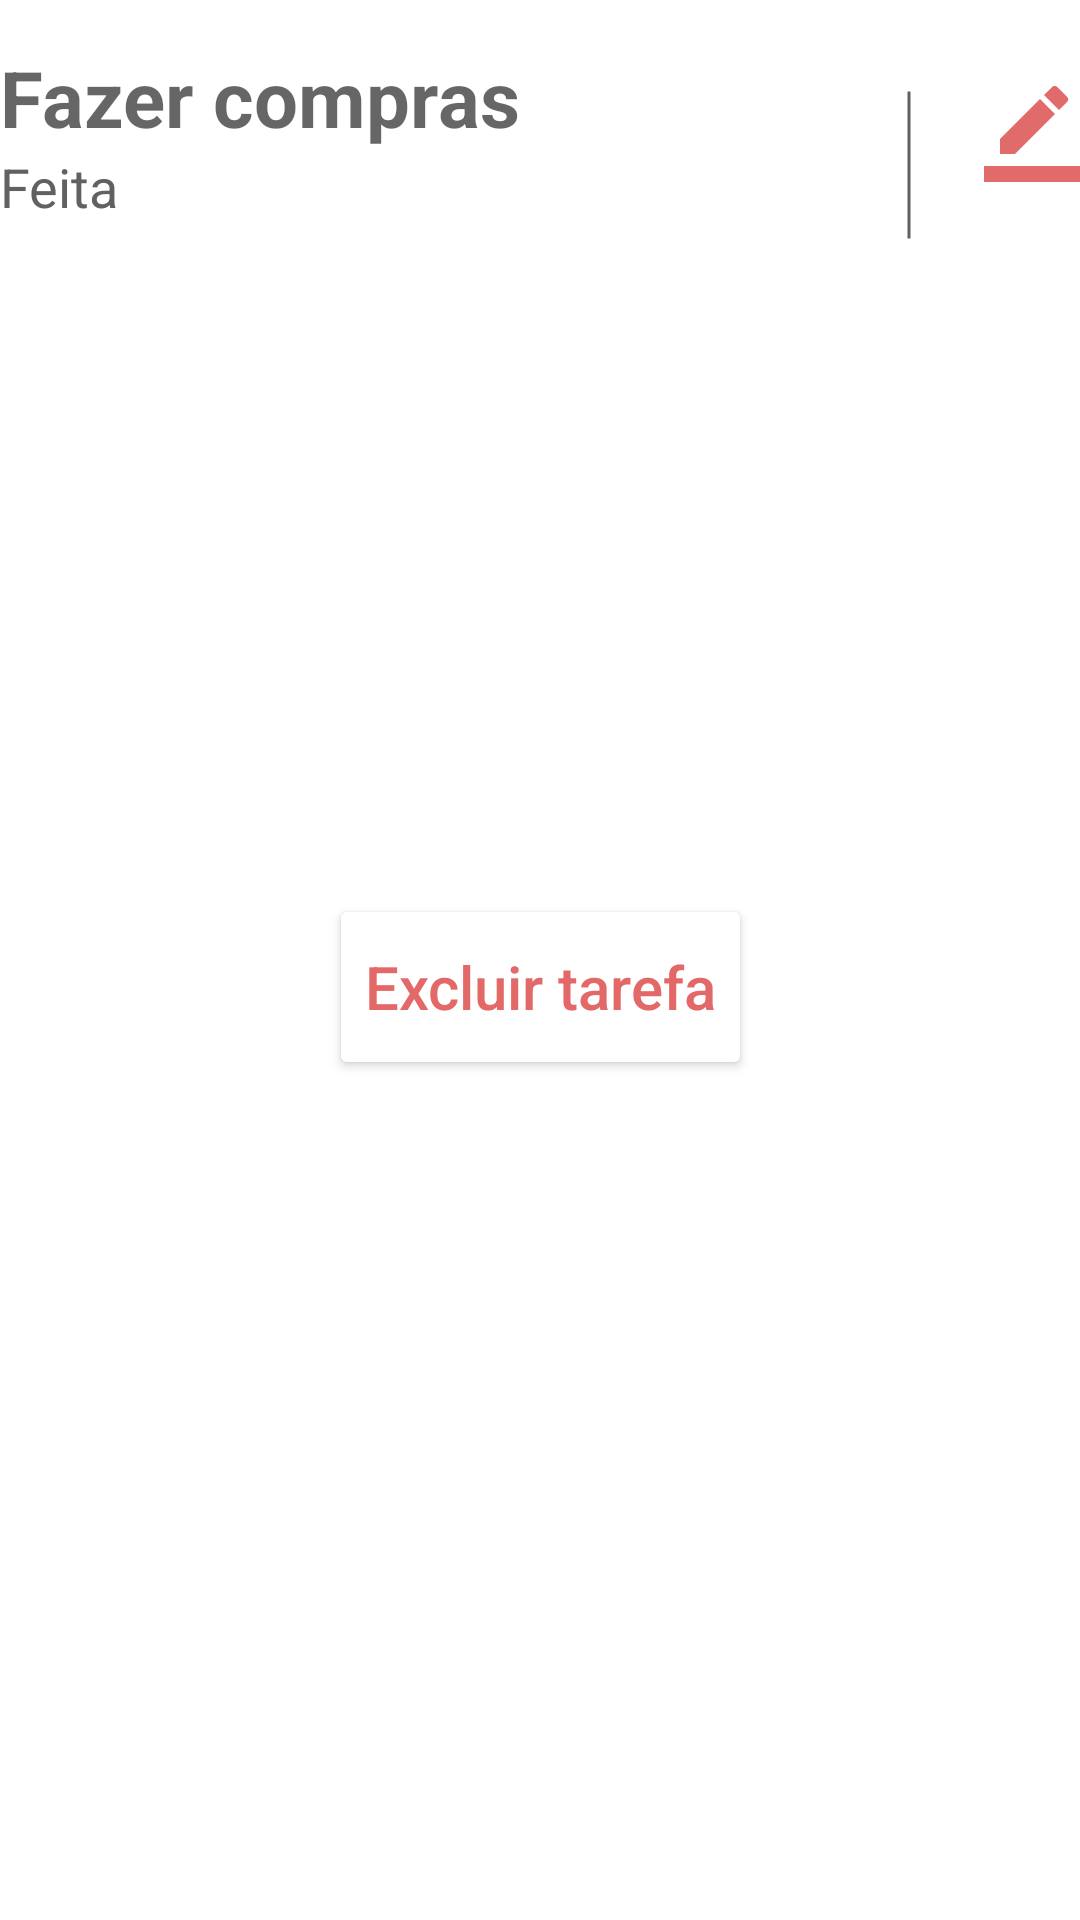

Point at icon controls on the screen. Image size 1080×1920, points as (x=x, y=y).
editar: (x=1032, y=134)
